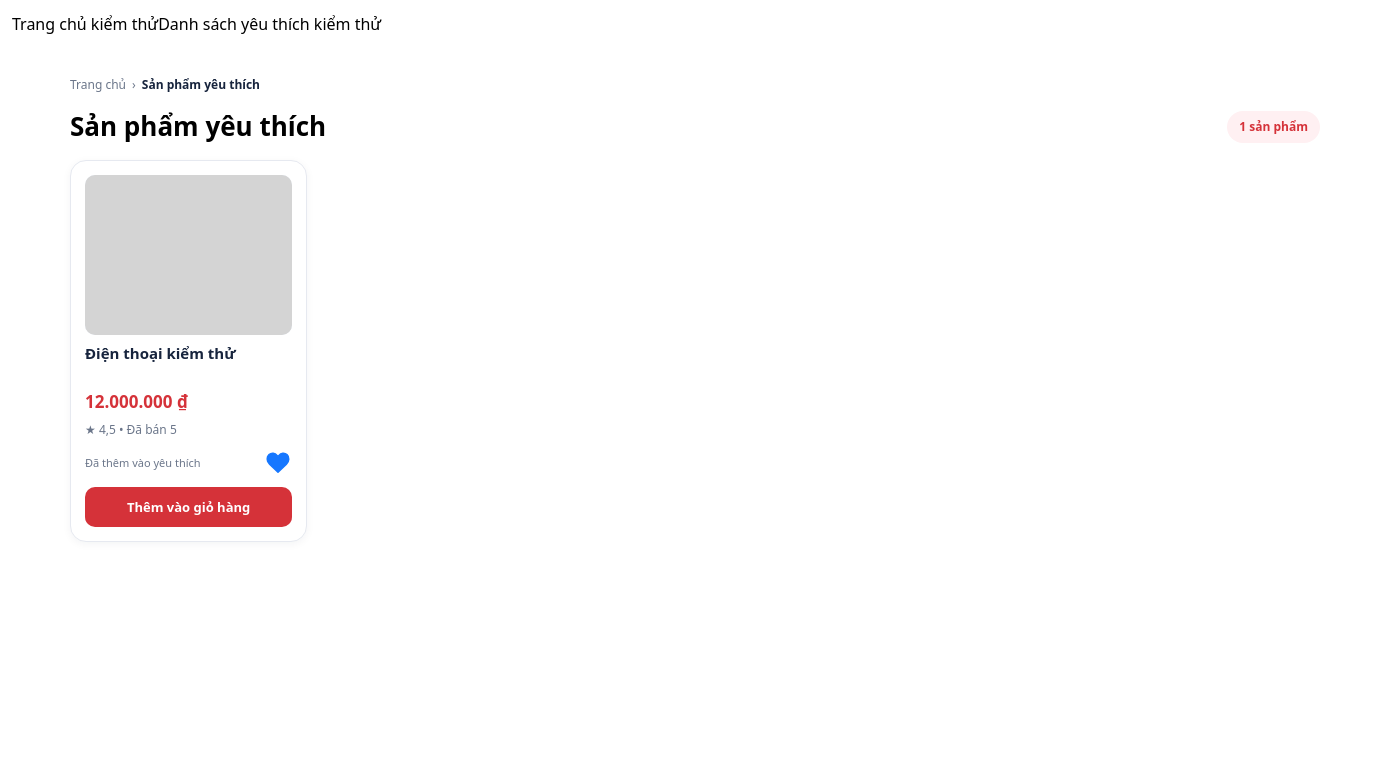
Test case: a failed removal retains the selected heart and the wishlist product
Click the button named "Bỏ Điện thoại kiểm thử khỏi yêu thích" at (278, 463), box 264,449 -> 292,477
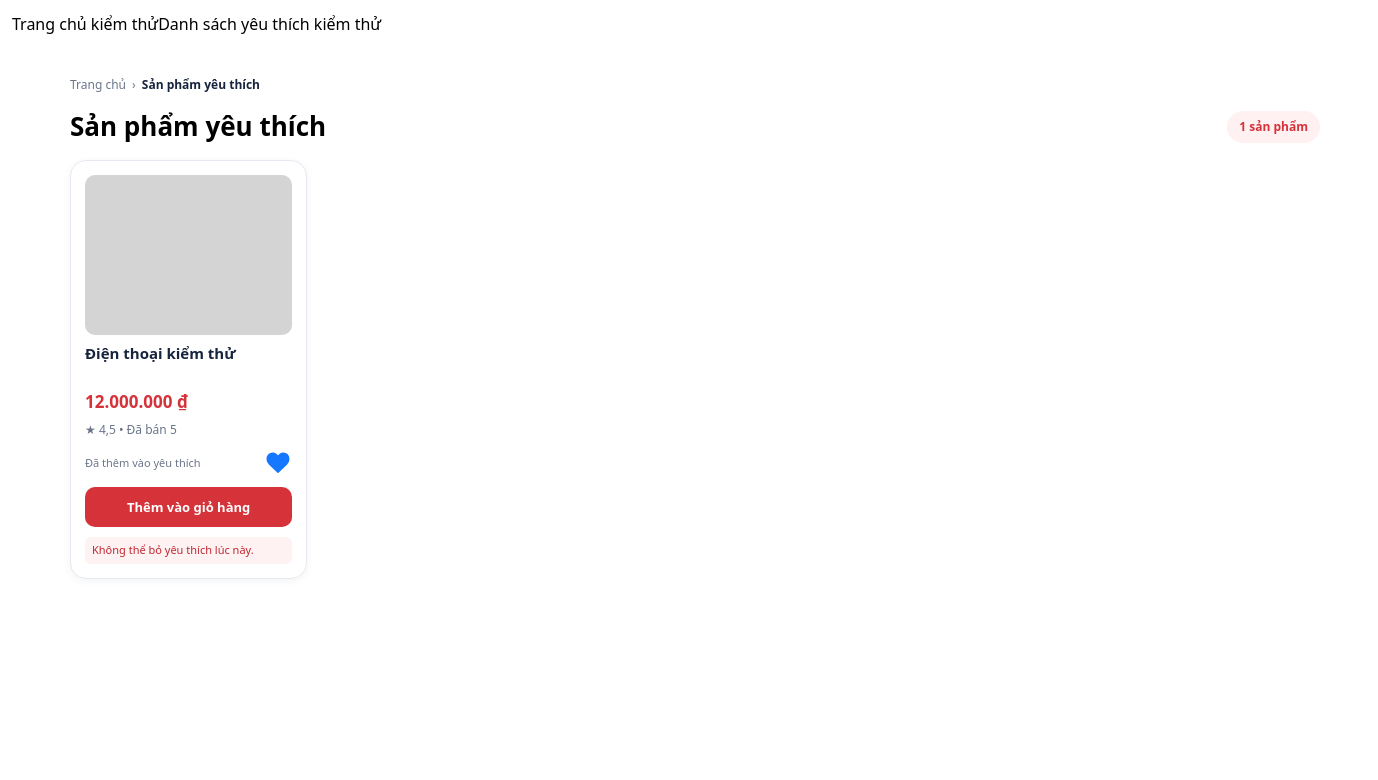
Expected: the message reads "Không thể bỏ yêu thích lúc này.", 92,542 -> 254,557
